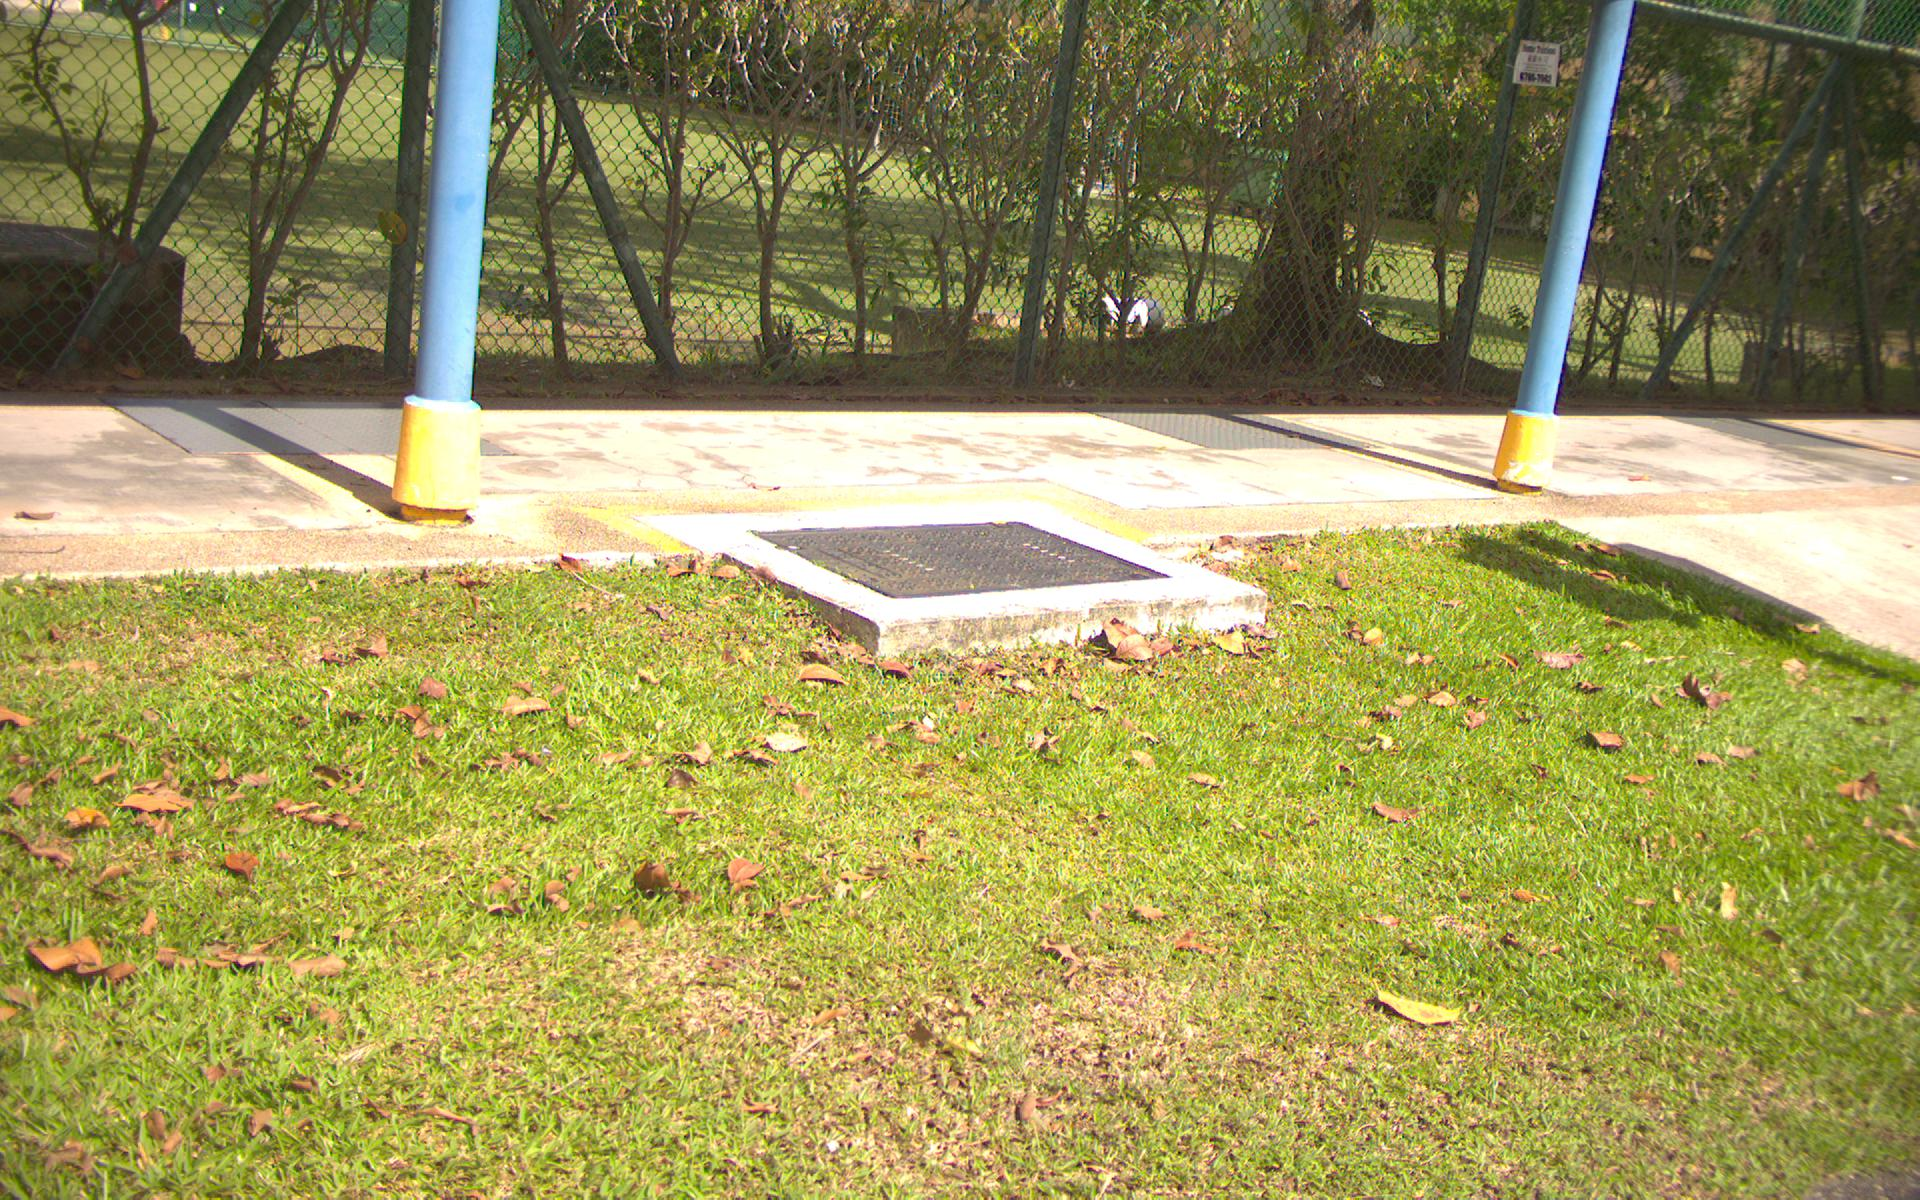road_turf_low: (12, 590, 1751, 1200), (17, 412, 1914, 492)
